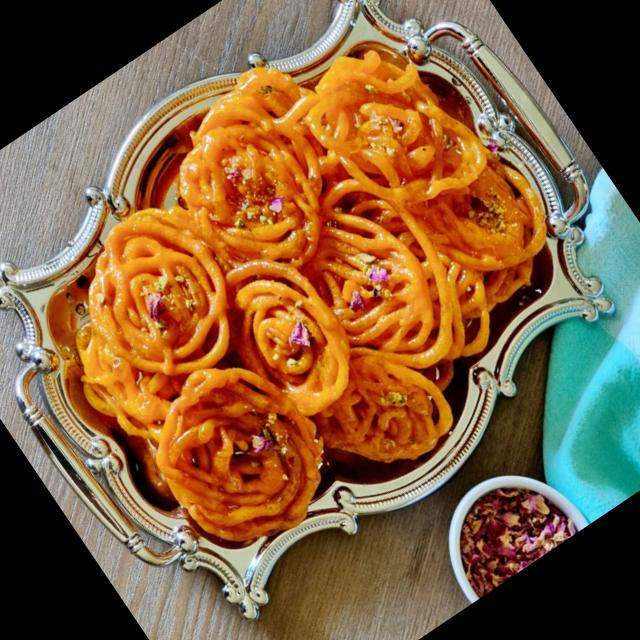jalebi: (1, 0, 613, 559)
